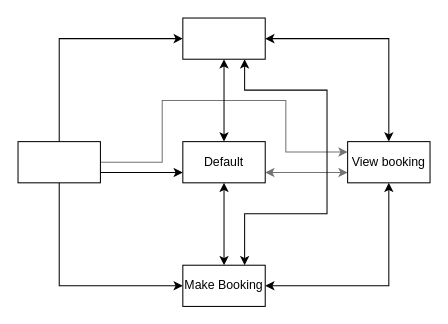
Image size: 448x324. Some labels were removed from this diagram. The centre of each missing label's shape, as x and y in pixels:
"Calender" goes at (223,38).
"Start up" goes at (58,162).
